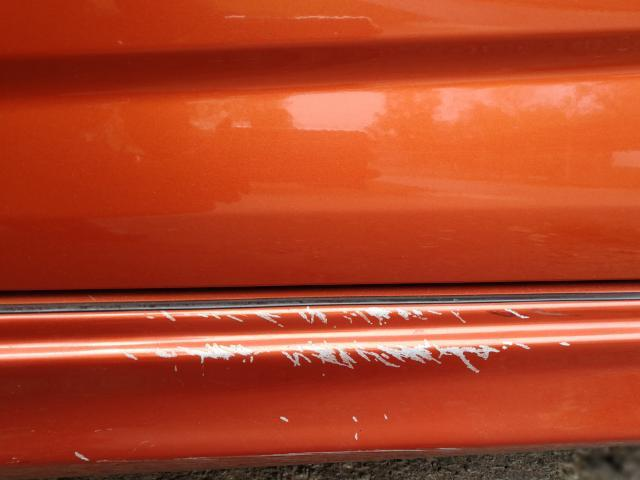Bumper: (108, 281, 587, 414)
